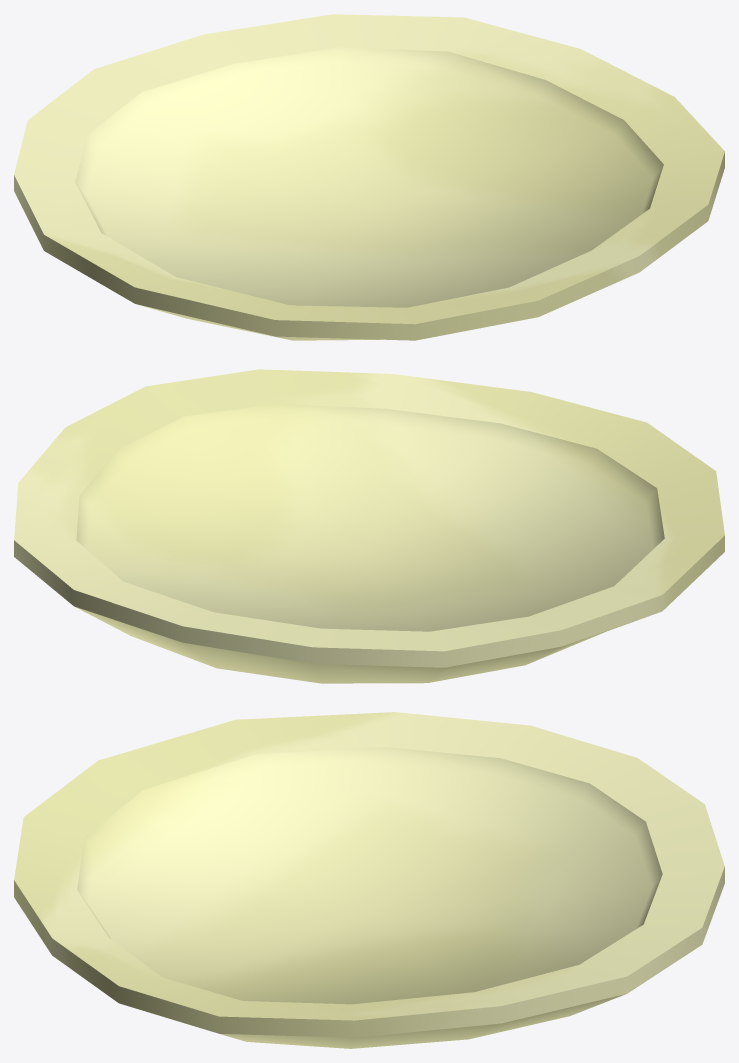
The model's file is SM_PROP_plate_interior_02.fbx.
The picture shows the model from 3 angles, top to bottom: view 1: azimuth 30°, elevation 25°; view 2: azimuth 150°, elevation 25°; view 3: azimuth 270°, elevation 25°; orthographic projection. The views are drawn at different scales.
Parts seen in each view (by area): view 1: SM_PROP_plate_interior_02; view 2: SM_PROP_plate_interior_02; view 3: SM_PROP_plate_interior_02.
Boxes of the visible parts, x1,y1,x2,y2 form: SM_PROP_plate_interior_02: [14, 14, 724, 340]; SM_PROP_plate_interior_02: [14, 369, 724, 683]; SM_PROP_plate_interior_02: [14, 712, 724, 1048].
Bounding box in the file's own units: 24.2 × 2.56 × 23.35.
